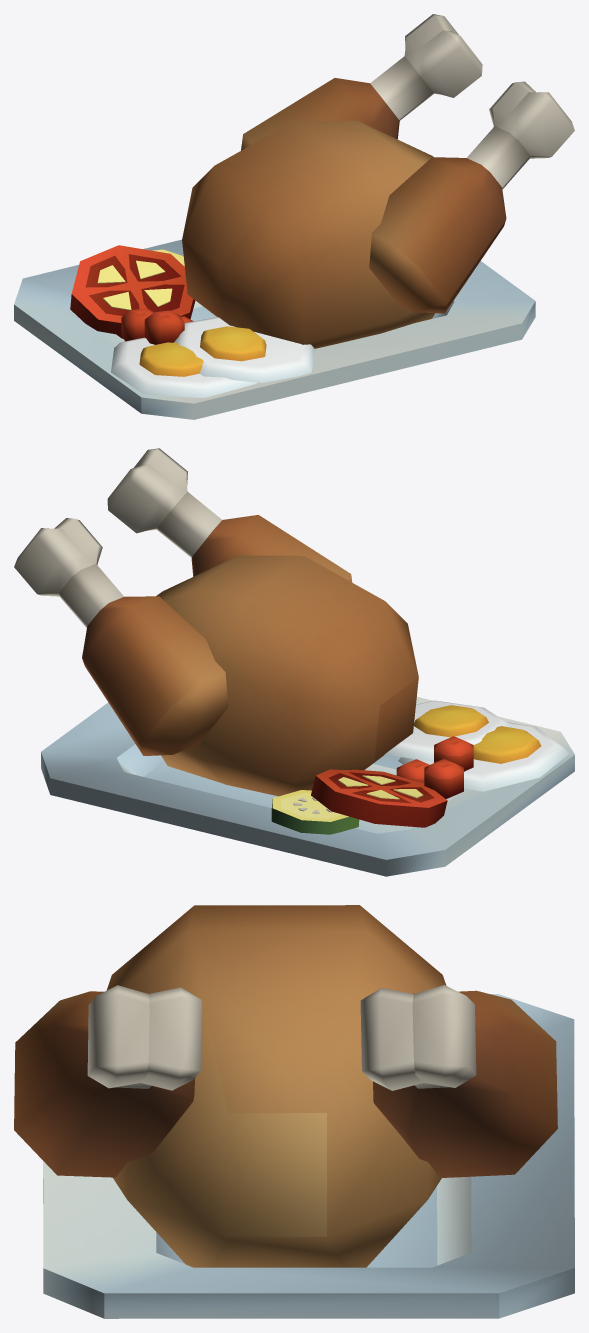
File: tray_chicken.fbx
The picture shows the model from 3 angles, top to bottom: view 1: azimuth 30°, elevation 25°; view 2: azimuth 150°, elevation 25°; view 3: azimuth 270°, elevation 25°; orthographic projection. The views are drawn at different scales.
Parts seen in each view (by area): view 1: tray_chicken; view 2: tray_chicken; view 3: tray_chicken.
Boxes of the visible parts, <box> form: tray_chicken: <box>14,14,574,419</box>; tray_chicken: <box>14,448,574,876</box>; tray_chicken: <box>14,905,574,1318</box>.
Bounding box in the file's own units: 83.72 × 44.06 × 60.1.
